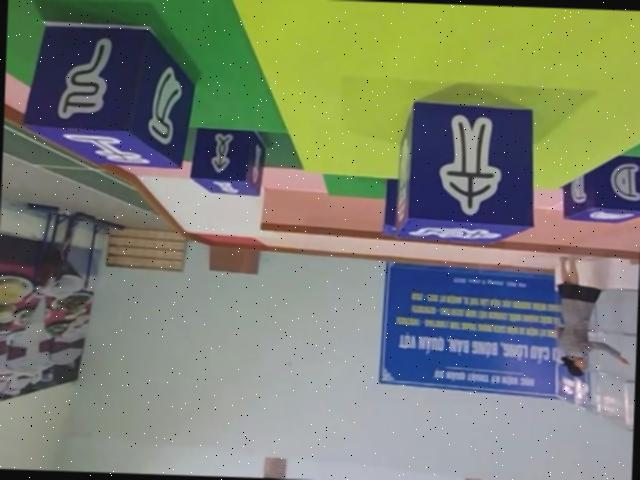R2 Fake Blue: (21, 17, 194, 167), (392, 100, 539, 246)
R2 Real Blue: (561, 153, 640, 225), (189, 127, 267, 199)
